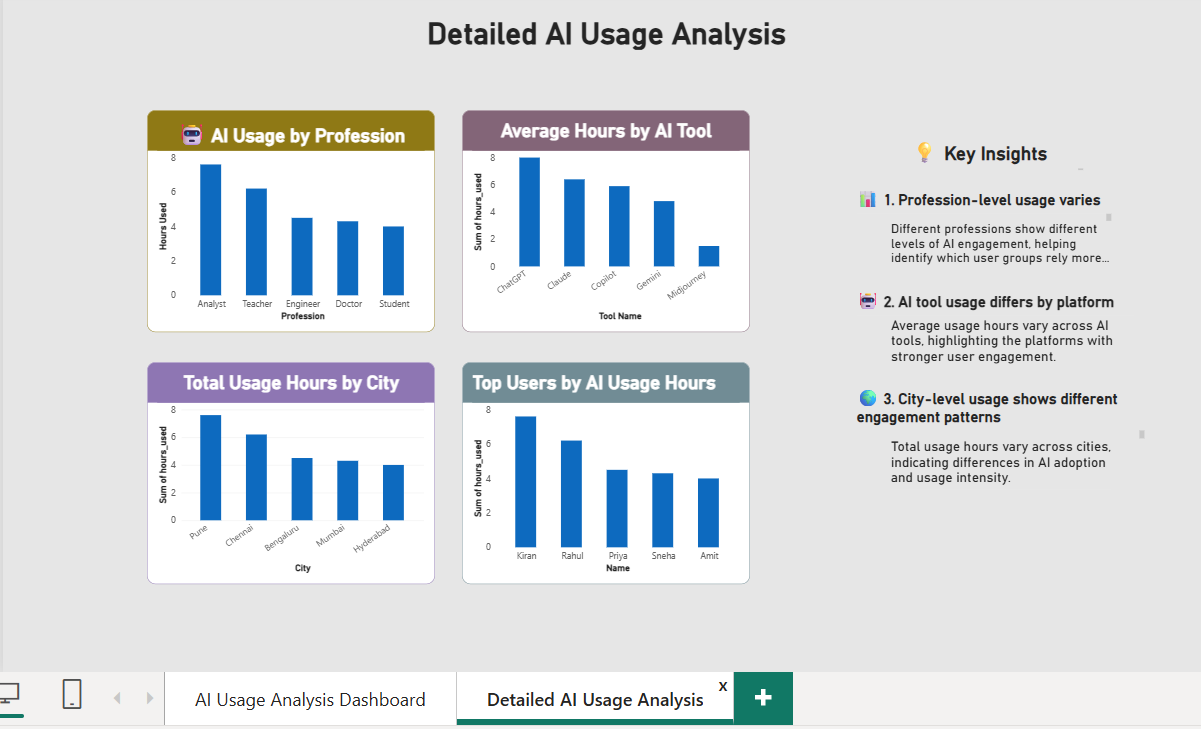

What the dashboard file says about the page in this screenshot:
{"tool":"powerbi","page":{"name":"Detailed AI Usage Analysis","canvas":[1920,1080],"ordinal":1},"visuals":[{"type":"clusteredColumnChart","title":"🤖 AI Usage by Profession","fields":{"Category":["ai_usage_analysis users.Profession"],"Y":["Sum(ai_usage_analysis usage_logs.hours_used)"]},"box":[229,186.1,458.1,353.1],"z":0},{"type":"clusteredColumnChart","title":"Average Hours by AI Tool","fields":{"Category":["ai_usage_analysis ai_tools.tool_name"],"Y":["Sum(ai_usage_analysis usage_logs.hours_used)"]},"box":[730.1,186.1,458.1,353.1],"z":1000},{"type":"clusteredColumnChart","title":"Total Usage Hours by City","fields":{"Category":["ai_usage_analysis users.City"],"Y":["Sum(ai_usage_analysis usage_logs.hours_used)"]},"box":[229,586.9,458.1,353.1],"z":2000},{"type":"clusteredColumnChart","title":"Top Users by AI Usage Hours","fields":{"Category":["ai_usage_analysis users.Name"],"Y":["Sum(ai_usage_analysis usage_logs.hours_used)"]},"box":[730.1,586.9,458.1,353.1],"z":3000},{"type":"textbox","title":"📊 1. Profession-level usage varies","box":[1357.6,307.8,405.6,54.9],"z":4000},{"type":"textbox","title":"     Different professions show different levels of AI engagement, helping identify which user groups rely more heavily on AI tools.","box":[1412.5,362.7,350.7,152.7],"z":5000},{"type":"textbox","title":"🤖  2. AI tool usage differs by platform","box":[1357.6,470,441.4,69.2],"z":6000},{"type":"textbox","title":"Average usage hours vary across AI tools, highlighting the platforms with stronger user engagement.","box":[1412.5,515.4,386.5,88.3],"z":7000},{"type":"textbox","title":"🌍 3. City-level usage shows different      engagement patterns","box":[1357.6,625.1,458.1,83.5],"z":8000},{"type":"textbox","title":"Total usage hours vary across cities, indicating differences in AI adoption and usage intensity.","box":[1412.5,708.6,350.7,81.1],"z":9000},{"type":"textbox","title":"💡 Key Insights","box":[1443.5,229,274.4,52.5],"z":10000},{"type":"textbox","title":"Detailed AI Usage Analysis","box":[0,35.8,1920.7,97.8],"z":11000}]}

Visuals, with their boxes on the page's 1920x1080 design canvas (x1, y1, x2, y2). These are canvas units, not pixel positions in the 1201x729 screenshot, which may show the page scaled, cropped or inside an application window:
"🤖 AI Usage by Profession" clusteredColumnChart: Rect(229, 186, 687, 539)
"Average Hours by AI Tool" clusteredColumnChart: Rect(730, 186, 1188, 539)
"Total Usage Hours by City" clusteredColumnChart: Rect(229, 587, 687, 940)
"Top Users by AI Usage Hours" clusteredColumnChart: Rect(730, 587, 1188, 940)
"📊 1. Profession-level usage varies" textbox: Rect(1358, 308, 1763, 363)
"     Different professions show different levels of AI engagement, helping identify which user groups rely more heavily on AI tools." textbox: Rect(1412, 363, 1763, 515)
"🤖  2. AI tool usage differs by platform" textbox: Rect(1358, 470, 1799, 539)
"Average usage hours vary across AI tools, highlighting the platforms with stronger user engagement." textbox: Rect(1412, 515, 1799, 604)
"🌍 3. City-level usage shows different      engagement patterns" textbox: Rect(1358, 625, 1816, 709)
"Total usage hours vary across cities, indicating differences in AI adoption and usage intensity." textbox: Rect(1412, 709, 1763, 790)
"💡 Key Insights" textbox: Rect(1444, 229, 1718, 282)
"Detailed AI Usage Analysis" textbox: Rect(0, 36, 1921, 134)
